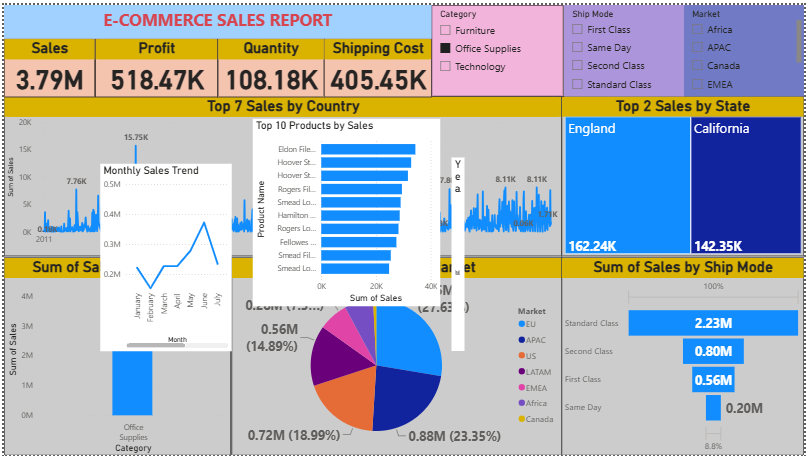

The dashboard page shown, as its layout file describes it:
{"tool":"powerbi","page":{"name":"Sales Report","canvas":[1280,720],"ordinal":0},"visuals":[{"type":"textbox","box":[0,0,548.8,50],"z":0},{"type":"textbox","box":[0,50,548.8,30],"z":1000},{"type":"slicer","fields":{"Values":["Orders.Category"]},"box":[548.8,0,182.5,80],"z":2000},{"type":"slicer","fields":{"Values":["Orders.Market"]},"box":[732.5,0,182.5,80],"z":3000},{"type":"slicer","fields":{"Values":["Orders.Ship Mode"]},"box":[915,0,182.5,80],"z":4000},{"type":"slicer","fields":{"Values":["Orders.Order Date.Variation.Date Hierarchy.Year"]},"box":[1097.5,0,182.5,80],"z":5000},{"type":"cardVisual","title":"TOTAL SALES","fields":{"Data":["Sum(Orders.Sales)"]},"box":[18.7,94,297.3,126],"z":6000},{"type":"cardVisual","title":"TOTAL PROFIT","fields":{"Data":["Sum(Orders.Profit)"]},"box":[342,93.3,298,126.7],"z":7000},{"type":"cardVisual","title":"TOTAL QUANTITY","fields":{"Data":["Sum(Orders.Quantity)"]},"box":[656.7,93.3,298,126.7],"z":8000},{"type":"cardVisual","title":"SHIPPING COST","fields":{"Data":["Sum(Orders.Shipping Cost)"]},"box":[974.8,92.9,293.2,126.7],"z":9000},{"type":"lineChart","title":"MONTHLY SALES TREND","fields":{"Y":["Sum(Orders.Sales)"],"Category":["Orders.Order Date.Variation.Date Hierarchy.Month"]},"box":[18.3,240,683.3,145],"z":10000},{"type":"clusteredBarChart","title":"SALES BY CATEGORY","fields":{"Category":["Orders.Category"],"Y":["Sum(Orders.Sales)"]},"box":[746.8,235.3,521.7,155],"z":11000},{"type":"clusteredBarChart","title":"TOP 10 PRODUCTS BY SALES","fields":{"Category":["Orders.Product Name"],"Y":["Sum(Orders.Sales)"]},"box":[18.6,402.9,681.4,140],"z":12000},{"type":"clusteredBarChart","title":"SALES BY MARKET","fields":{"Category":["Orders.Market"],"Y":["Sum(Orders.Sales)"]},"box":[20,557.1,683,150],"z":13000},{"type":"clusteredBarChart","title":"TOP 10 STATES BY SALES","fields":{"Category":["Orders.State"],"Y":["Sum(Orders.Sales)"]},"box":[745.7,402.9,522,150],"z":13001},{"type":"clusteredBarChart","title":"SALES BY SHIP MODE","fields":{"Category":["Orders.Ship Mode"],"Y":["Sum(Orders.Sales)"]},"box":[747,557,522,150],"z":13002}]}

Visuals, with their boxes in screenshot pixels (x1, y1, x2, y2), scaled from the page's 1280x720 canvas onto the 806x456 screenshot:
textbox: pyautogui.locateOnScreen(0, 0, 346, 32)
textbox: pyautogui.locateOnScreen(0, 32, 346, 51)
slicer - Orders.Category: pyautogui.locateOnScreen(346, 0, 460, 51)
slicer - Orders.Market: pyautogui.locateOnScreen(461, 0, 576, 51)
slicer - Orders.Ship Mode: pyautogui.locateOnScreen(576, 0, 691, 51)
slicer - Orders.Order Date.Variation.Date Hierarchy.Year: pyautogui.locateOnScreen(691, 0, 805, 51)
"TOTAL SALES" cardVisual: pyautogui.locateOnScreen(12, 60, 199, 139)
"TOTAL PROFIT" cardVisual: pyautogui.locateOnScreen(215, 59, 403, 139)
"TOTAL QUANTITY" cardVisual: pyautogui.locateOnScreen(414, 59, 601, 139)
"SHIPPING COST" cardVisual: pyautogui.locateOnScreen(614, 59, 798, 139)
"MONTHLY SALES TREND" lineChart: pyautogui.locateOnScreen(12, 152, 442, 244)
"SALES BY CATEGORY" clusteredBarChart: pyautogui.locateOnScreen(470, 149, 799, 247)
"TOP 10 PRODUCTS BY SALES" clusteredBarChart: pyautogui.locateOnScreen(12, 255, 441, 344)
"SALES BY MARKET" clusteredBarChart: pyautogui.locateOnScreen(13, 353, 443, 448)
"TOP 10 STATES BY SALES" clusteredBarChart: pyautogui.locateOnScreen(470, 255, 798, 350)
"SALES BY SHIP MODE" clusteredBarChart: pyautogui.locateOnScreen(470, 353, 799, 448)
